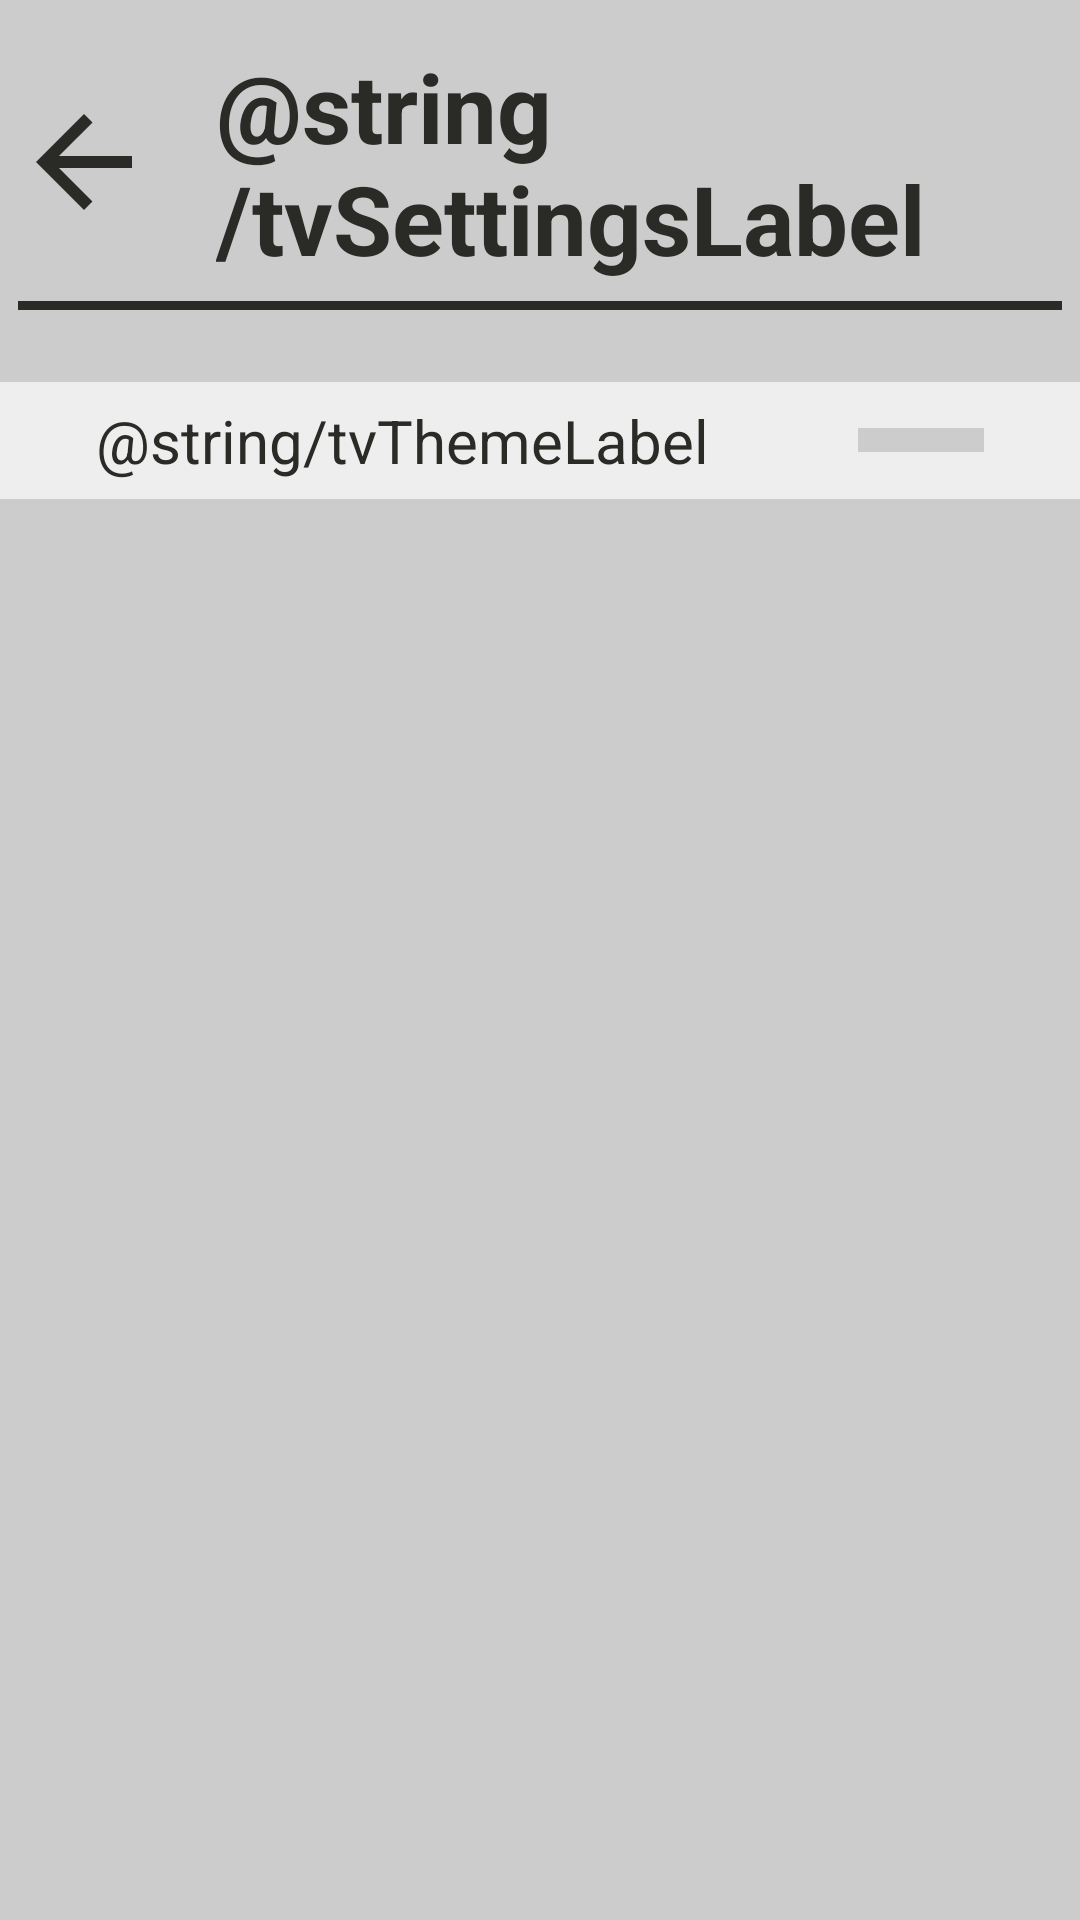

Where icons sit on this 1080x1920 app screen, as (x1, y1, x2, y2):
arrow back: (36, 114, 132, 210)
